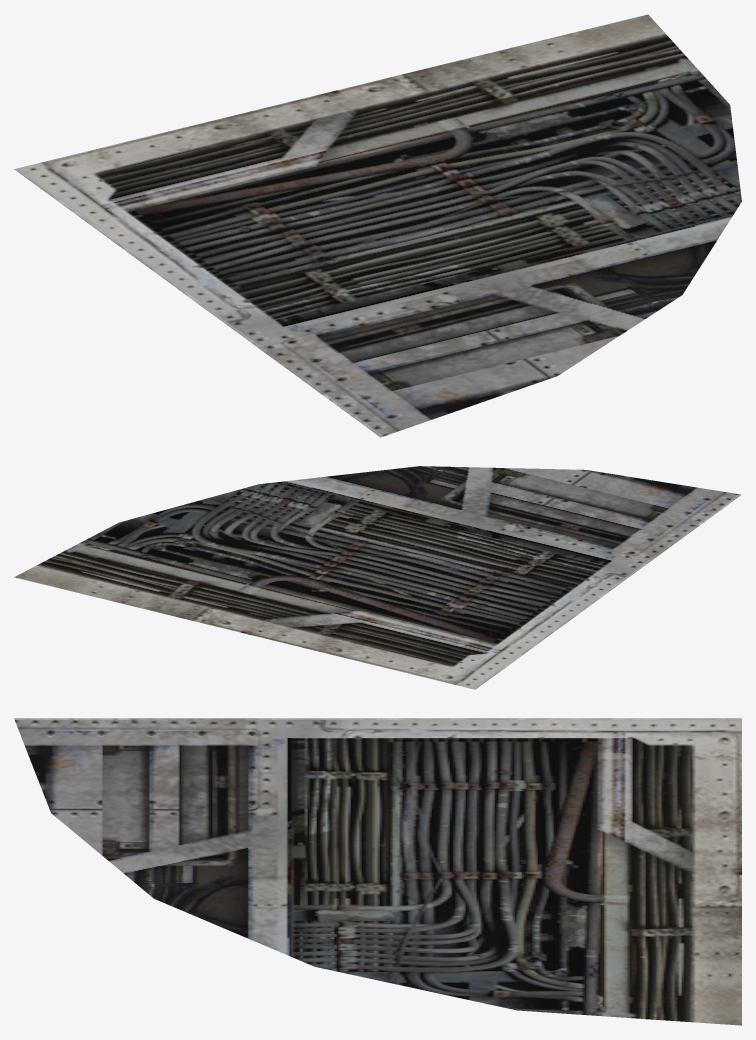
Rendered from Ceiling_B_17.fbx.
3 views of the same model, one above another, from view 1: azimuth 30°, elevation 25°; view 2: azimuth 150°, elevation 25°; view 3: azimuth 270°, elevation 25° (orthographic). The views are drawn at different scales.
Parts seen in each view (by area): view 1: Ceiling_B_17; view 2: Ceiling_B_17; view 3: Ceiling_B_17.
Boxes of the visible parts, x1,y1,x2,y2 form: Ceiling_B_17: [14, 14, 741, 437]; Ceiling_B_17: [14, 466, 741, 689]; Ceiling_B_17: [14, 718, 741, 1025].
Bounding box in the file's own units: 150 × 0.000426 × 150.
